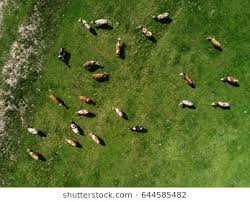sheep: (210, 99, 233, 112), (83, 60, 106, 73), (209, 32, 224, 50), (181, 71, 196, 88), (219, 75, 242, 86), (112, 38, 124, 58), (75, 17, 92, 31), (151, 10, 170, 22), (136, 24, 152, 37), (52, 95, 65, 110), (63, 137, 79, 149), (92, 72, 109, 83), (80, 95, 95, 107), (91, 19, 109, 29), (24, 125, 38, 136), (28, 150, 42, 161), (75, 108, 92, 117), (69, 122, 79, 136), (179, 98, 195, 106), (91, 132, 101, 144), (59, 49, 67, 64), (112, 107, 123, 116), (129, 126, 143, 132)
